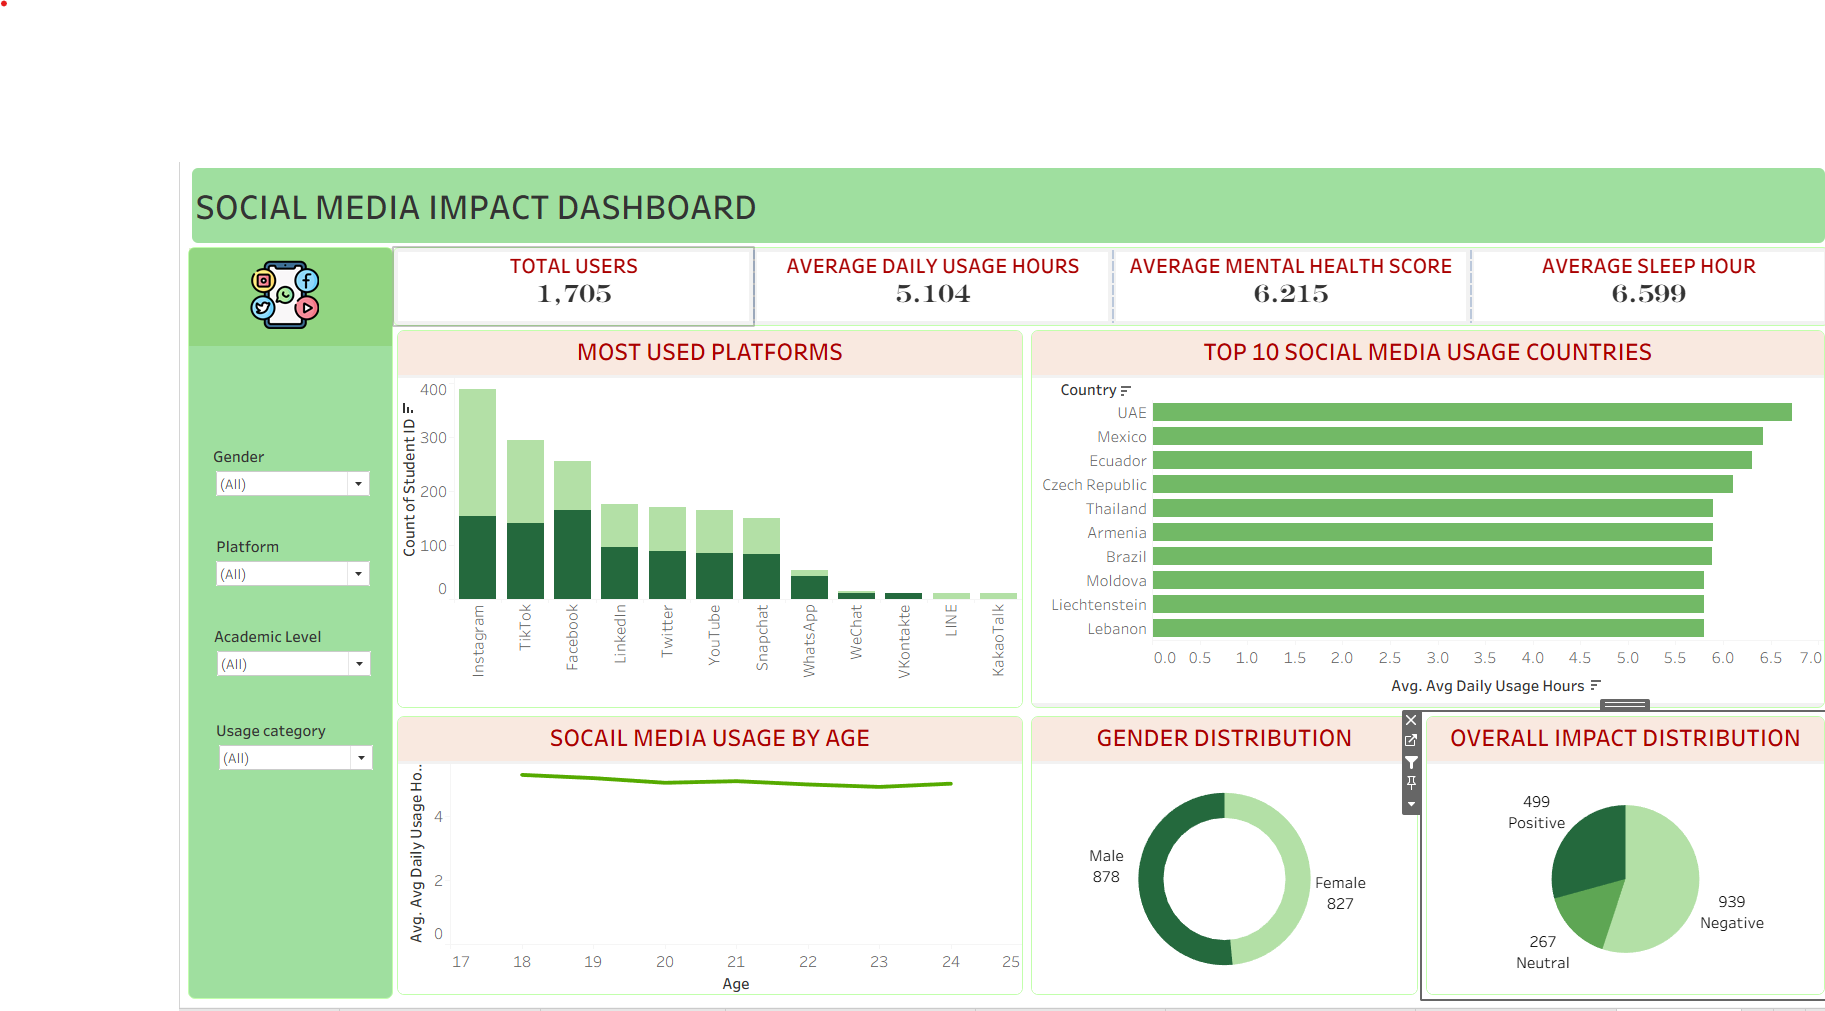

The dashboard page shown, as its layout file describes it:
{"tool":"tableau","page":{"name":"Dashboard 1","canvas":[1000,1000],"units":"permille","ordinal":0},"visuals":[{"type":"title","box":[4.8,9.4,990.3,97.5]},{"type":"worksheet","title":"total users","mark":"Automatic","box":[129.2,108.1,216.7,90.5]},{"type":"worksheet","title":"AVERAGE DAILY USAGE HOURS","mark":"Automatic","box":[345.8,108.1,216.7,90.5]},{"type":"worksheet","title":"AVERAGE MENTAL HEALTH SCORE","mark":"Automatic","box":[562.5,108.1,216.1,90.5]},{"type":"worksheet","title":"AVERAGE SLEEP HOUR","mark":"Automatic","box":[778.5,108.1,216.1,90.5]},{"type":"image","param":"C:/Users/user/Downloads/social-media.png","box":[42.2,122.2,48.3,81.1]},{"type":"worksheet","title":"MOST USED PLATFORMS","mark":"Automatic","rows":["Student_ID"],"cols":["Most_Used_Platform"],"box":[128.6,199.8,382.6,453.2]},{"type":"worksheet","title":"TOP 10 SOCIAL MEDIA USAGE COUNTRIES","mark":"Automatic","rows":["Country"],"cols":["Avg_Daily_Usage_Hours"],"box":[511.2,199.8,484,453.6]},{"type":"filter","title":"MOST USED PLATFORMS","param":"[federated.0t5buxu097zao81d0r7c30gzbj8i].[none:Gender:nk]","box":[19.9,340.8,96.6,62.3]},{"type":"filter","title":"MOST USED PLATFORMS","param":"[federated.0t5buxu097zao81d0r7c30gzbj8i].[none:Most_Used_Platform:nk]","box":[19.9,446.5,96.6,62.3]},{"type":"filter","title":"MOST USED PLATFORMS","param":"[federated.0t5buxu097zao81d0r7c30gzbj8i].[none:Academic_Level:nk]","box":[20.5,552.3,96.6,62.3]},{"type":"worksheet","title":"social media usage by age","mark":"Line","rows":["Avg_Daily_Usage_Hours"],"cols":["Age"],"box":[128.6,653,382.6,337.6]},{"type":"worksheet","title":"GENDER DISTRIBUTION","mark":"Pie","rows":["Calculation_0790827790737413","Calculation_0790827790749703"],"box":[511.2,653.4,238.4,337.2]},{"type":"worksheet","title":"OVERALL IMPACT DISTRIBUTION","mark":"Pie","box":[749.6,653.4,245.6,337.2]},{"type":"filter","title":"MOST USED PLATFORMS","param":"[federated.0t5buxu097zao81d0r7c30gzbj8i].[none:Calculation_0326559725092865:nk]","box":[21.7,662.8,96.6,62.3]}]}

Visuals, with their boxes on the dashboard's canvas, which has no fixed pixel size, in thousandths of its width and height (x1, y1, x2, y2). These are canvas units, not pixel positions in the 1825x1011 screenshot, which may show the page scaled, cropped or inside an application window:
title: [5, 9, 995, 107]
"total users" worksheet: [129, 108, 346, 199]
"AVERAGE DAILY USAGE HOURS" worksheet: [346, 108, 562, 199]
"AVERAGE MENTAL HEALTH SCORE" worksheet: [562, 108, 779, 199]
"AVERAGE SLEEP HOUR" worksheet: [778, 108, 995, 199]
image: [42, 122, 90, 203]
"MOST USED PLATFORMS" worksheet: [129, 200, 511, 653]
"TOP 10 SOCIAL MEDIA USAGE COUNTRIES" worksheet: [511, 200, 995, 653]
"MOST USED PLATFORMS" filter: [20, 341, 116, 403]
"MOST USED PLATFORMS" filter: [20, 446, 116, 509]
"MOST USED PLATFORMS" filter: [20, 552, 117, 615]
"social media usage by age" worksheet (Line marks): [129, 653, 511, 991]
"GENDER DISTRIBUTION" worksheet (Pie marks): [511, 653, 750, 991]
"OVERALL IMPACT DISTRIBUTION" worksheet (Pie marks): [750, 653, 995, 991]
"MOST USED PLATFORMS" filter: [22, 663, 118, 725]
